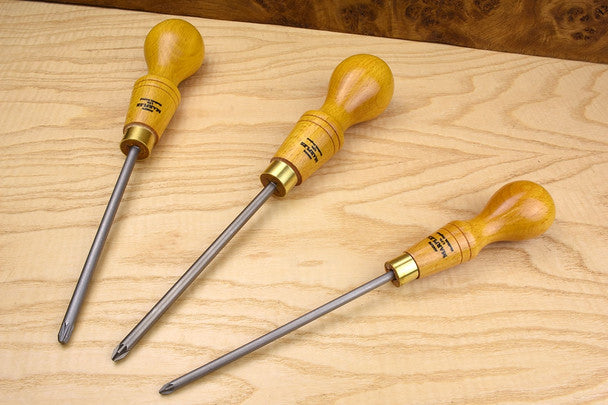screwdriver: (110, 53, 395, 366), (158, 180, 557, 396), (58, 19, 207, 342)
